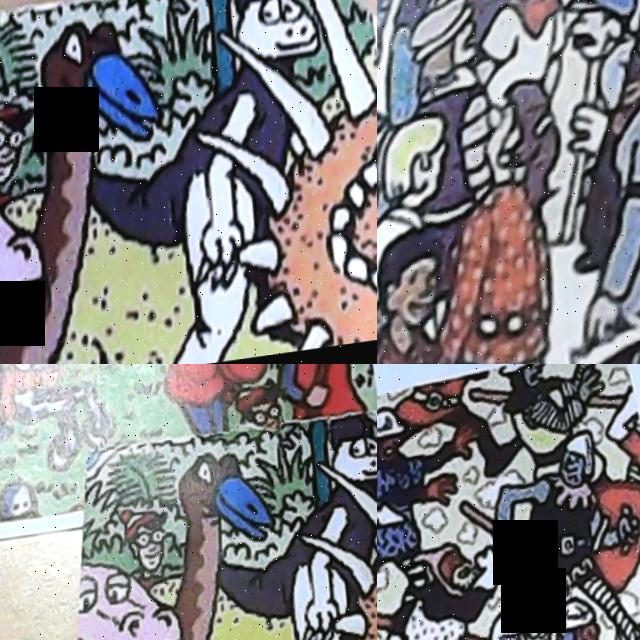waldo: (0, 89, 47, 205), (496, 579, 582, 640), (124, 508, 178, 579), (228, 381, 293, 439)
